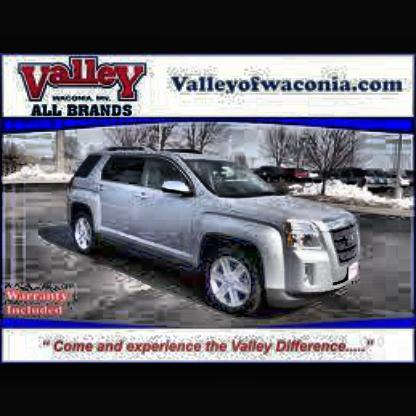GMC Terrain SUV 2012: (67, 149, 364, 317)
